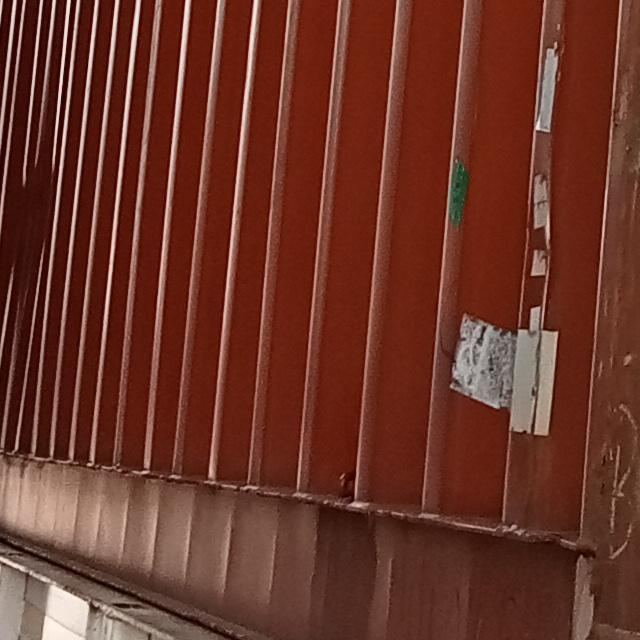dent: (1, 158, 65, 314)
